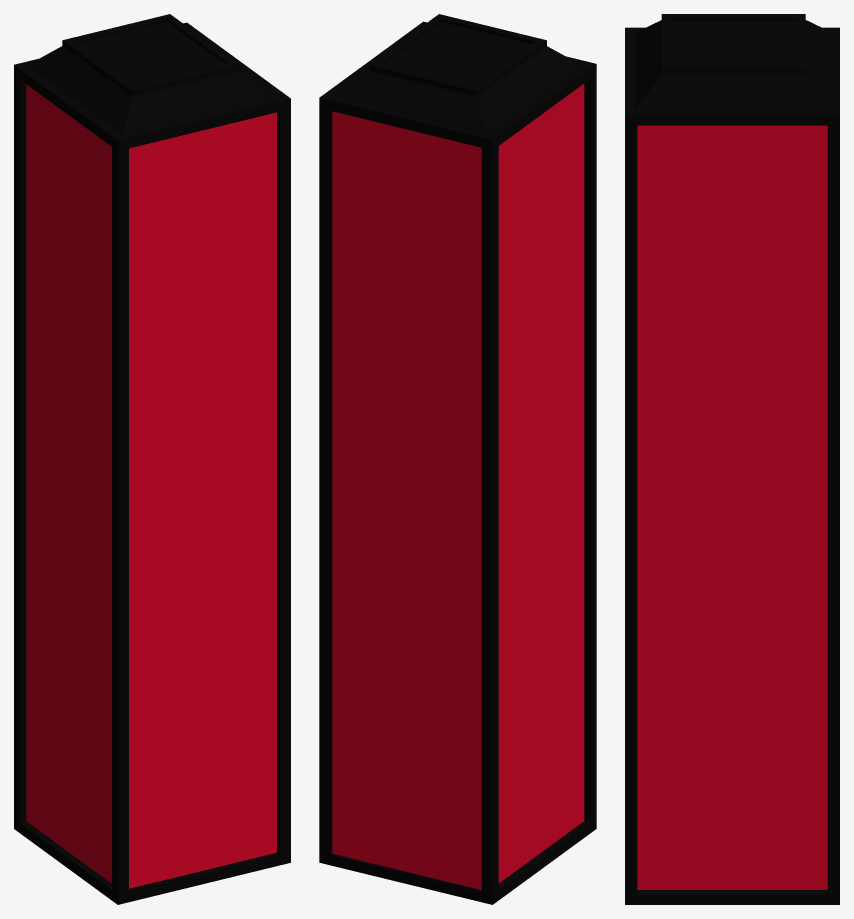
3 renders of one model, left to right at view 1: azimuth 30°, elevation 25°; view 2: azimuth 150°, elevation 25°; view 3: azimuth 270°, elevation 25°, orthographic. The views are drawn at different scales.
Visible parts, largest first — view 1: Building9; view 2: Building9; view 3: Building9.
Boxes of the visible parts, x1,y1,x2,y2 form: Building9: [14, 14, 290, 904]; Building9: [319, 14, 596, 904]; Building9: [625, 14, 839, 904].
Bounding box in the file's own units: 5065 × 22169 × 5264.
